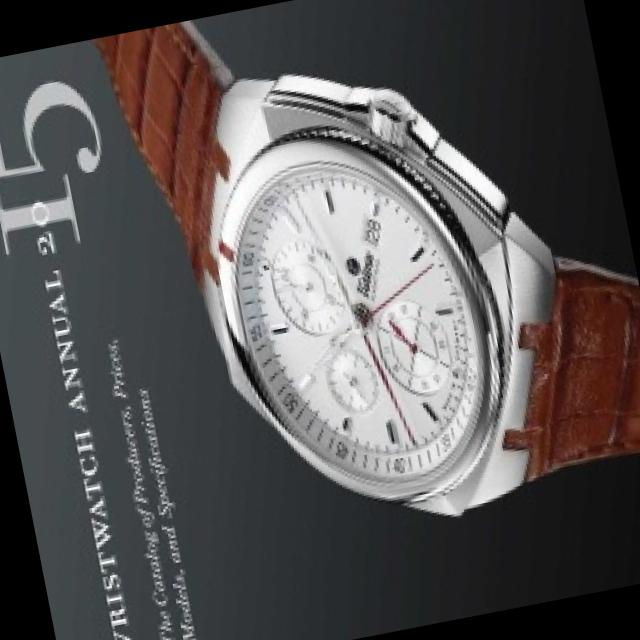saat: (147, 8, 609, 594)
